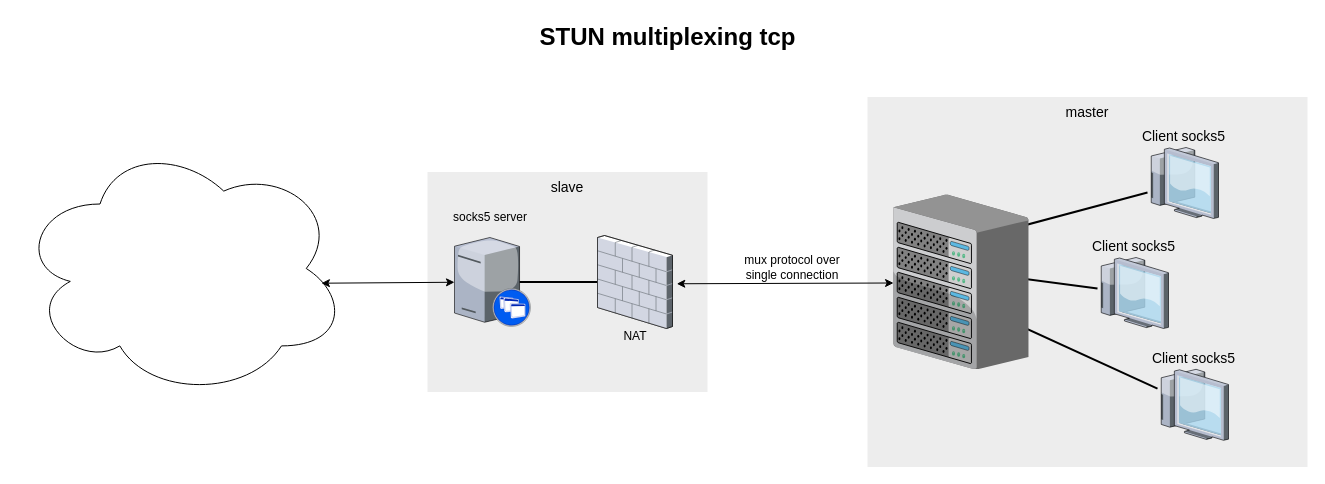
This 1325x484 diagram has some shape labels left out. Each missing label, with the centre of its shape:
"CTUN node-1" belongs at point 492,281.
"STUN" belongs at point 960,281.
